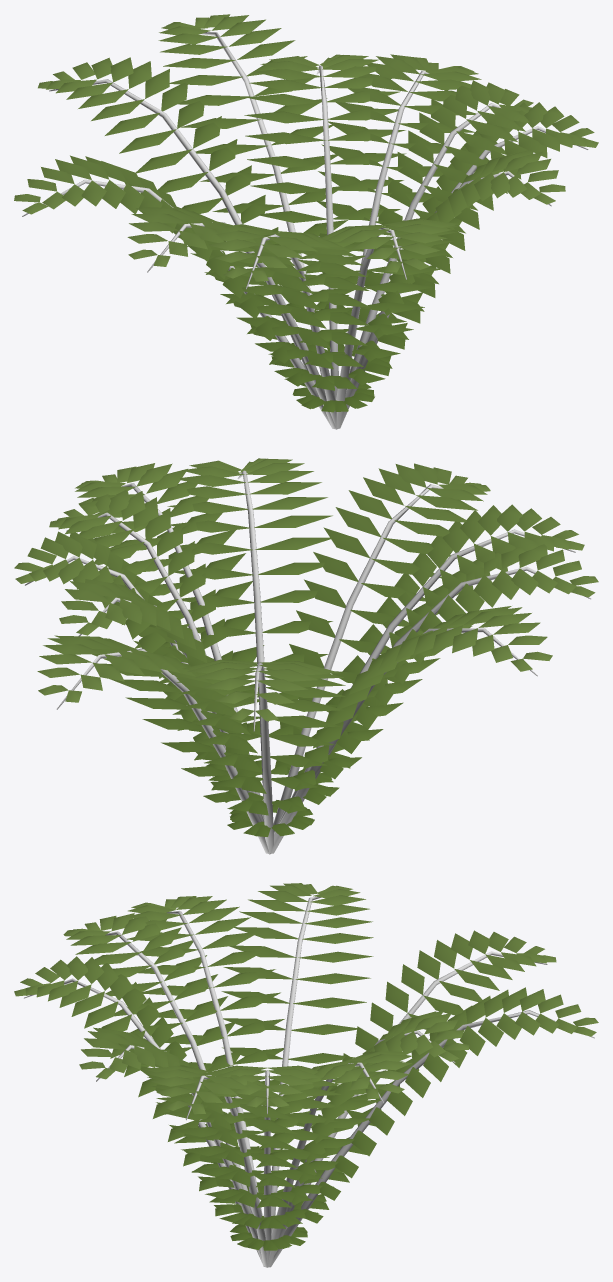
Rendered from fern_cluster.glb.
3 renders of one model, top to bottom at view 1: azimuth 30°, elevation 25°; view 2: azimuth 150°, elevation 25°; view 3: azimuth 270°, elevation 25°, orthographic. The views are drawn at different scales.
Visible parts, largest first — view 1: Fronds, FernStem, FernStem.010, FernStem.007, FernStem.002, FernStem.005, FernStem.006, FernStem.009, FernStem.001, FernStem.004; view 2: Fronds, FernStem.006, FernStem.007, FernStem.003, FernStem.001, FernStem.002, FernStem, FernStem.004, FernStem.008, FernStem.009; view 3: Fronds, FernStem.002, FernStem.009, FernStem.004, FernStem.001, FernStem.008, FernStem.005, FernStem.006, FernStem.007, FernStem, FernStem.003.
Part boxes in pixels (<box>): Fronds: <box>14,14,598,412</box>; FernStem: <box>346,103,500,389</box>; FernStem.010: <box>316,65,338,400</box>; FernStem.007: <box>49,79,308,370</box>; FernStem.002: <box>201,32,321,375</box>; FernStem.005: <box>349,70,429,371</box>; FernStem.006: <box>335,227,406,429</box>; FernStem.009: <box>147,222,335,428</box>; FernStem.001: <box>246,234,337,429</box>; FernStem.004: <box>22,179,332,428</box>; Fronds: <box>14,458,598,836</box>; FernStem.006: <box>273,484,443,832</box>; FernStem.007: <box>253,661,273,854</box>; FernStem.003: <box>237,470,265,800</box>; FernStem.001: <box>278,529,575,823</box>; FernStem.002: <box>56,648,270,854</box>; FernStem: <box>66,512,264,820</box>; FernStem.004: <box>271,628,537,853</box>; FernStem.008: <box>121,483,264,817</box>; FernStem.009: <box>277,566,591,847</box>; Fronds: <box>14,883,598,1250</box>; FernStem.002: <box>270,1010,594,1267</box>; FernStem.009: <box>166,910,262,1215</box>; FernStem.004: <box>271,897,320,1233</box>; FernStem.001: <box>80,931,253,1214</box>; FernStem.008: <box>186,1075,267,1267</box>; FernStem.005: <box>267,1062,384,1267</box>; FernStem.006: <box>24,978,264,1266</box>; FernStem.007: <box>303,951,547,1193</box>; FernStem: <box>263,1070,271,1267</box>; FernStem.003: <box>96,1045,264,1266</box>.
Bounding box in the file's own units: 0.8281 × 0.4514 × 0.8891.
